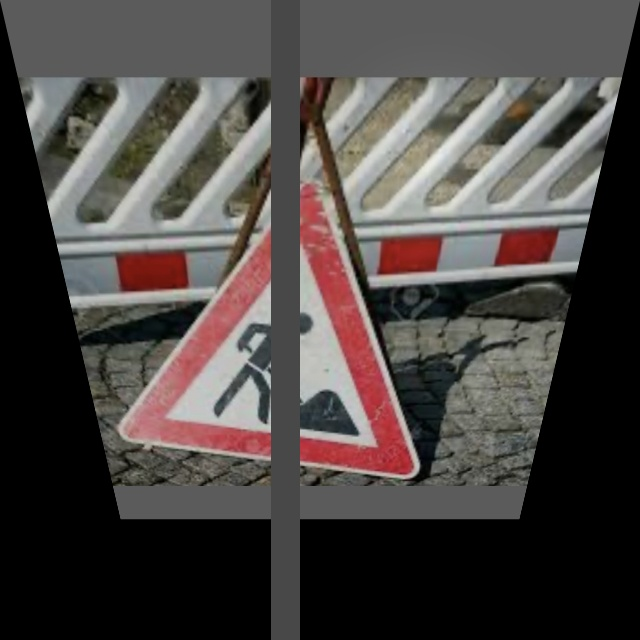Men_at_Work: (116, 193, 453, 478)
